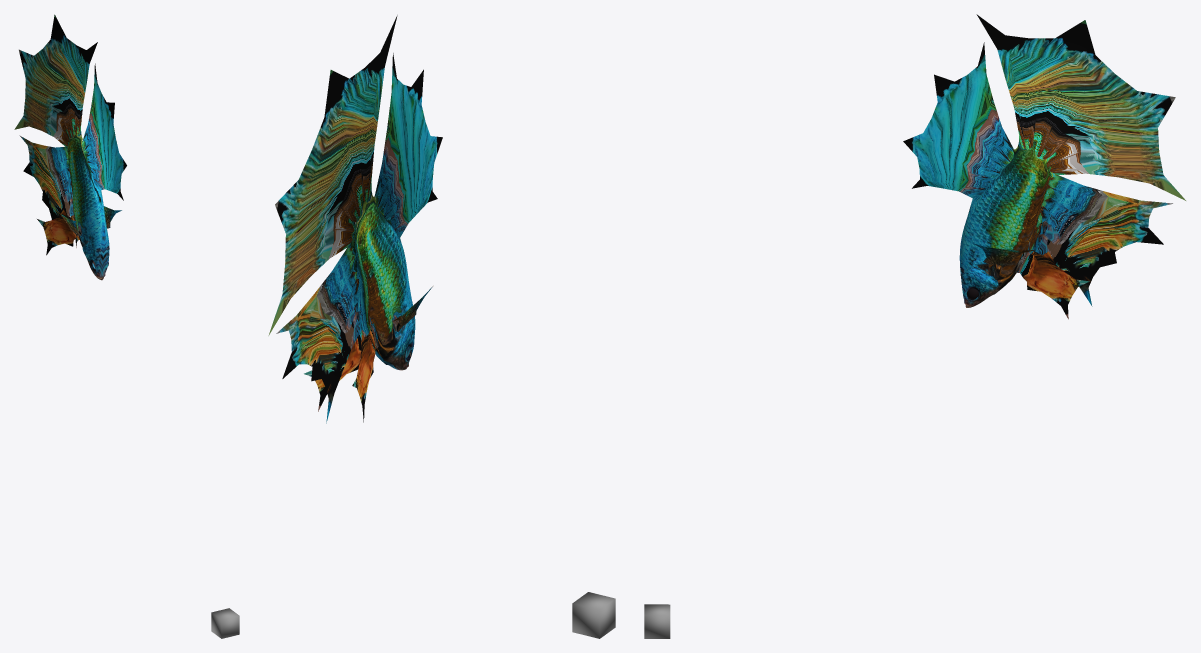
File: Betta_Splendens.fbx
3 views of the same model, side by side, from view 1: azimuth 30°, elevation 25°; view 2: azimuth 150°, elevation 25°; view 3: azimuth 270°, elevation 25° (orthographic). The views are drawn at different scales.
Parts seen in each view (by area): view 1: BODY, Cube; view 2: BODY, Cube; view 3: BODY, Cube.
Part boxes in pixels (x1,y1,x2,y2): BODY: [14, 14, 126, 280]; Cube: [211, 608, 239, 638]; BODY: [268, 15, 442, 423]; Cube: [572, 592, 615, 638]; BODY: [903, 14, 1185, 319]; Cube: [644, 604, 670, 638].
Bounding box in the file's own units: 1.29 × 13.58 × 10.77.
